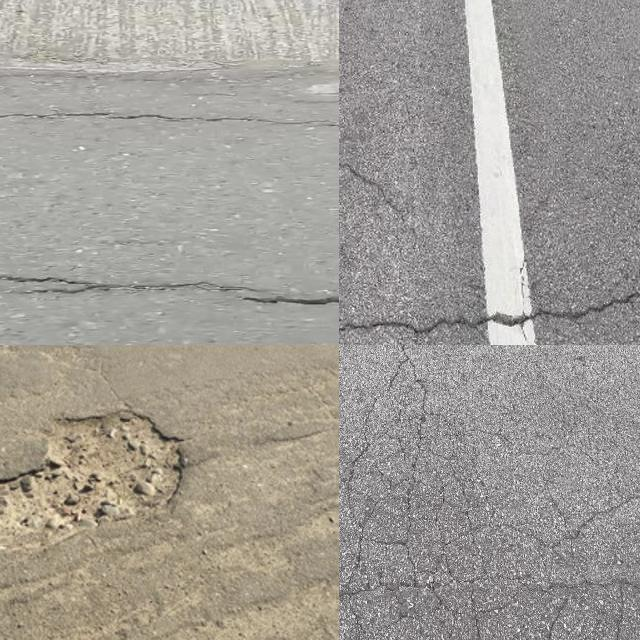Lubang: (0, 408, 184, 553)
Melintang: (0, 267, 339, 320), (339, 286, 640, 345), (339, 565, 640, 614), (339, 147, 437, 253)
Memanjang: (395, 345, 438, 574)
